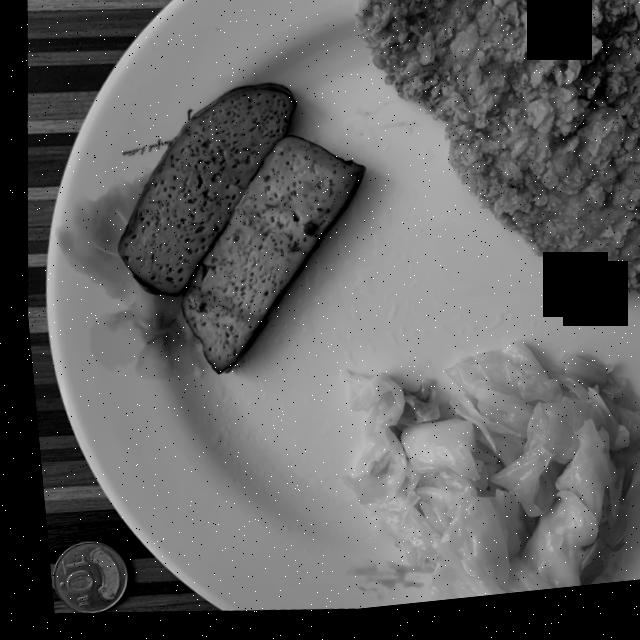cabbage: (334, 351, 640, 609)
coin: (42, 541, 117, 613)
firm tofu: (113, 88, 359, 377)
fried chicken cutlet: (354, 0, 640, 308)
